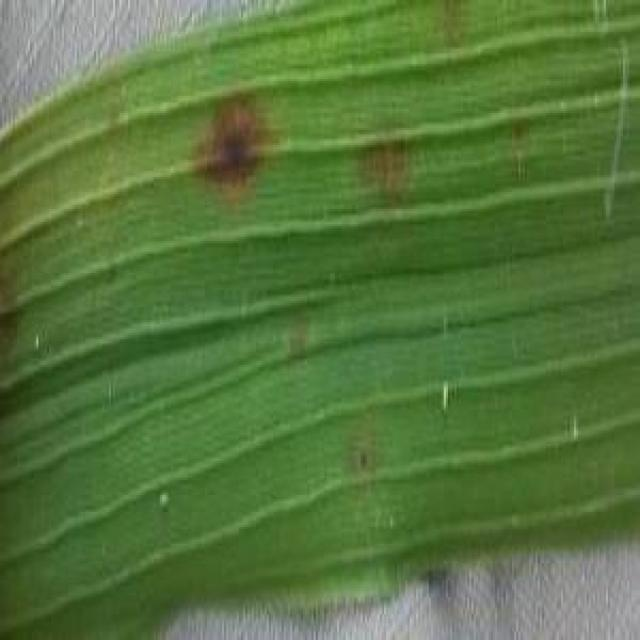Brown_Spot: (183, 83, 286, 200), (350, 139, 426, 202), (344, 443, 375, 471)
